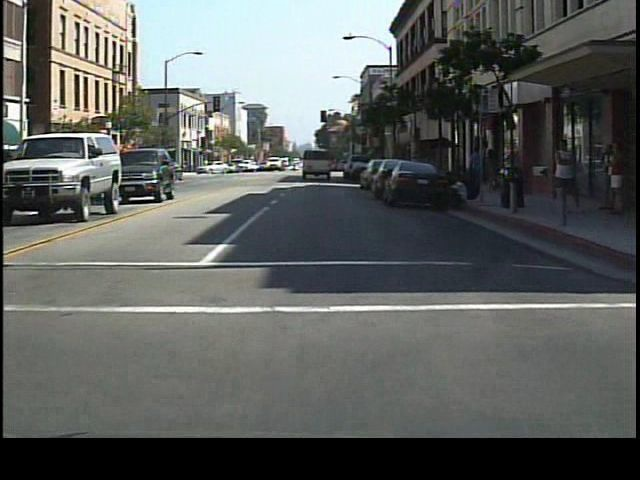person: (548, 127, 584, 224), (466, 141, 487, 200), (482, 144, 504, 197)
